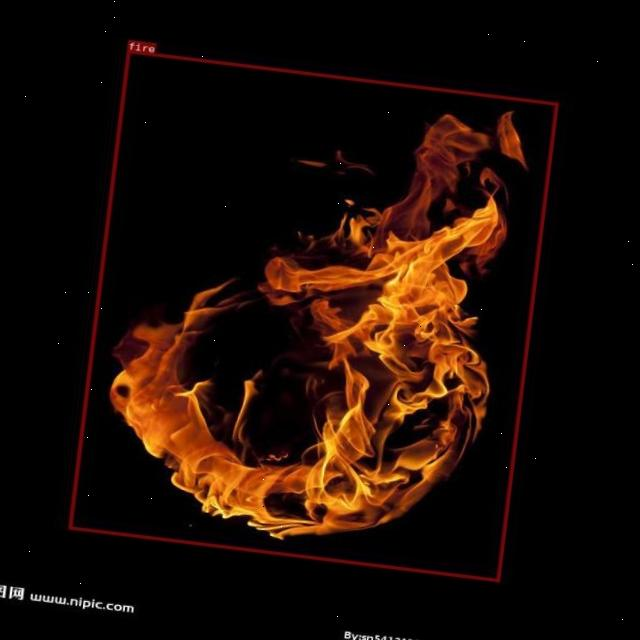fire: (68, 49, 558, 580)
